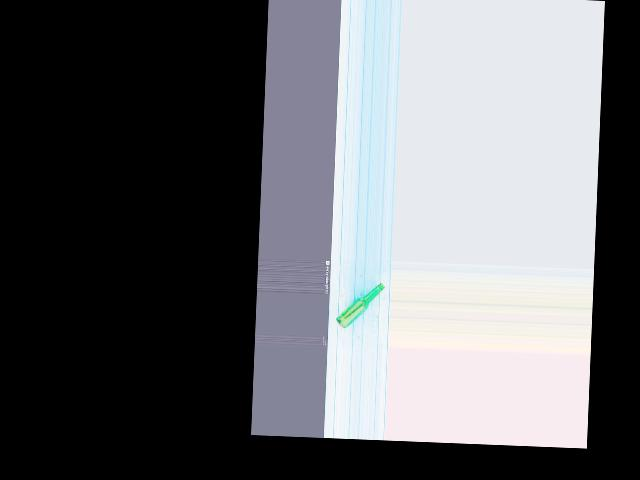beer: (334, 281, 384, 330)
